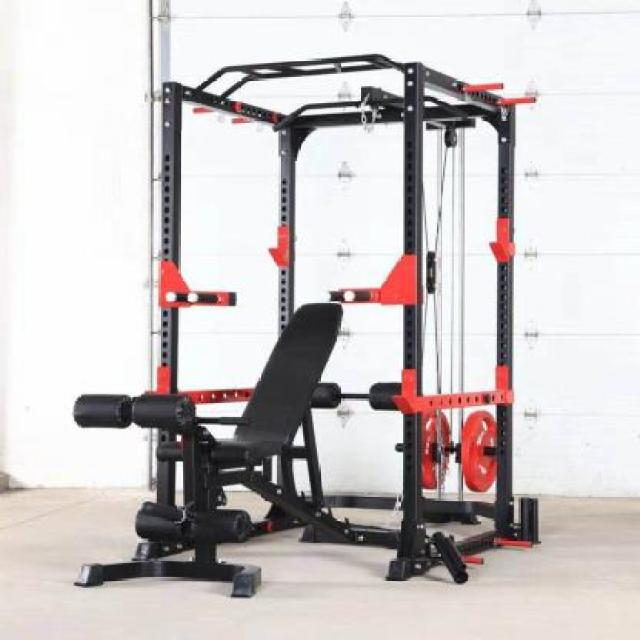smith machine: (160, 52, 543, 585)
